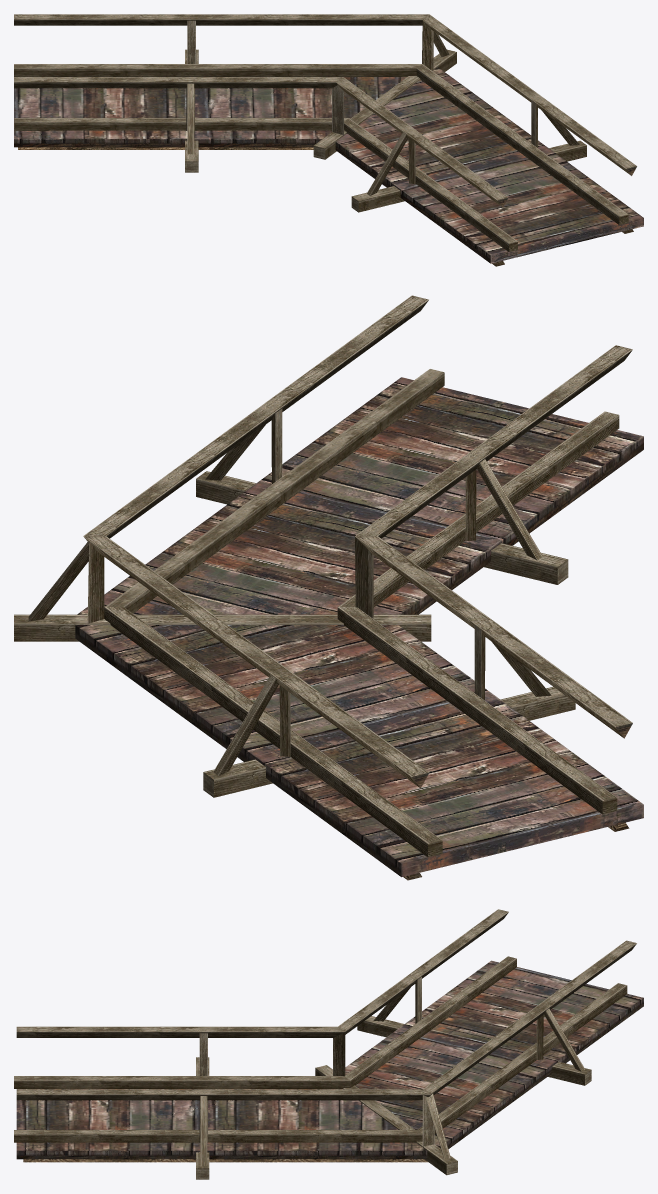
The model's file is loc2_16.glb.
3 views of the same model, one above another, from view 1: azimuth 30°, elevation 25°; view 2: azimuth 150°, elevation 25°; view 3: azimuth 270°, elevation 25° (orthographic). The views are drawn at different scales.
Parts seen in each view (by area): view 1: loc2_16; view 2: loc2_16; view 3: loc2_16.
Boxes of the visible parts, <box> form: loc2_16: <box>14,14,643,266</box>; loc2_16: <box>14,295,643,880</box>; loc2_16: <box>14,909,643,1179</box>.
Bounding box in the file's own units: 11.72 × 1.79 × 15.12.
Materials: 4 (4 with a texture image).
